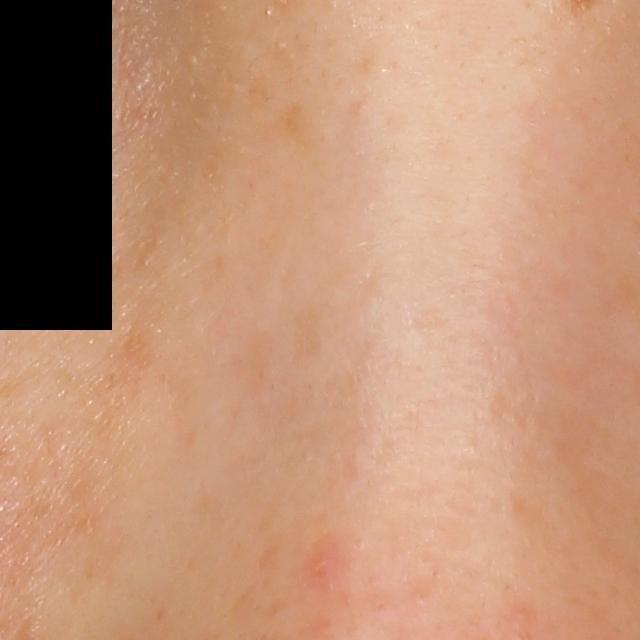melasma: (117, 310, 165, 378), (276, 99, 320, 159)
papule: (304, 542, 339, 585)
